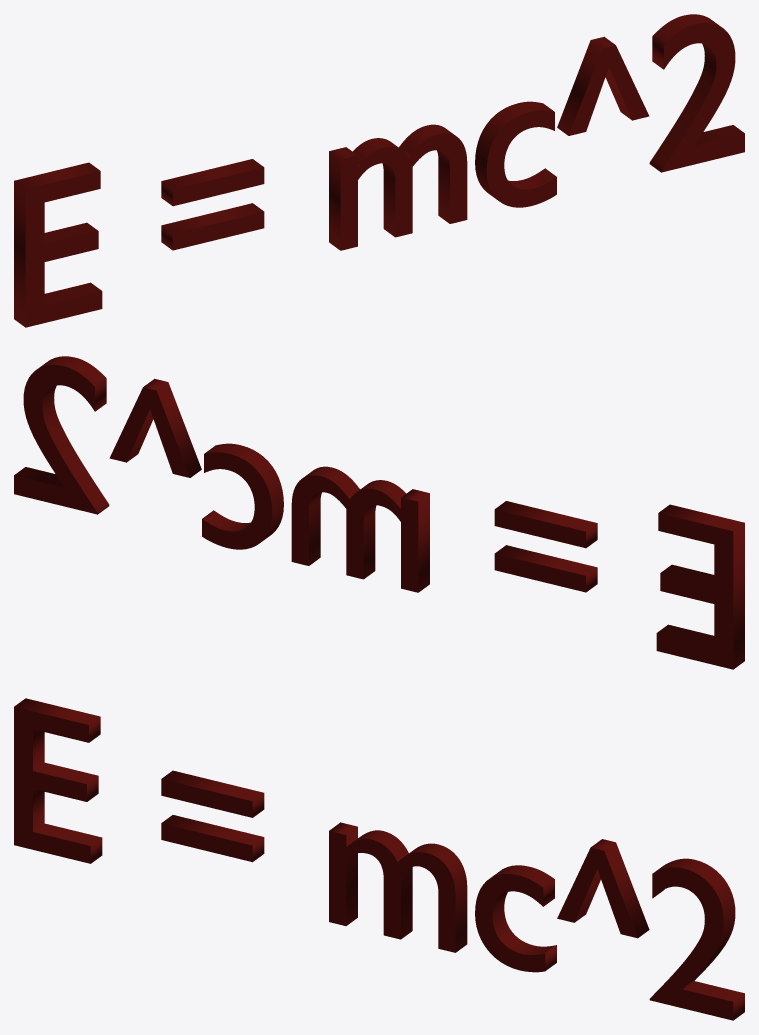
File: eequalsmcsquared.glb
3 views of the same model, one above another, from view 1: azimuth 30°, elevation 25°; view 2: azimuth 150°, elevation 25°; view 3: azimuth 330°, elevation 25° (orthographic).
Parts seen in each view (by area): view 1: Text; view 2: Text; view 3: Text.
Boxes of the visible parts, box(x1,y1,x2,y2) form: Text: box(14, 14, 744, 327); Text: box(14, 356, 744, 669); Text: box(14, 698, 744, 1020).
Size of the model in its own units: 3.71 by 0.7 by 0.104.
